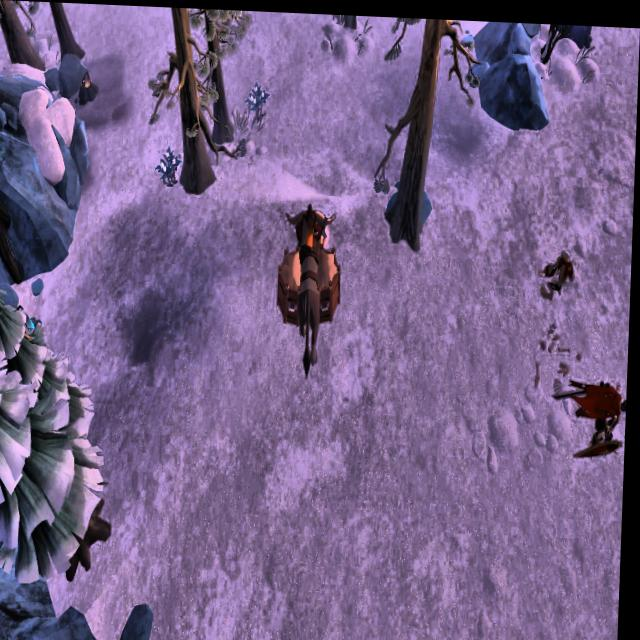enemy_factionUndead: (564, 365, 630, 457), (541, 241, 580, 299)
fiber_t4: (247, 74, 273, 120), (158, 143, 186, 185)
